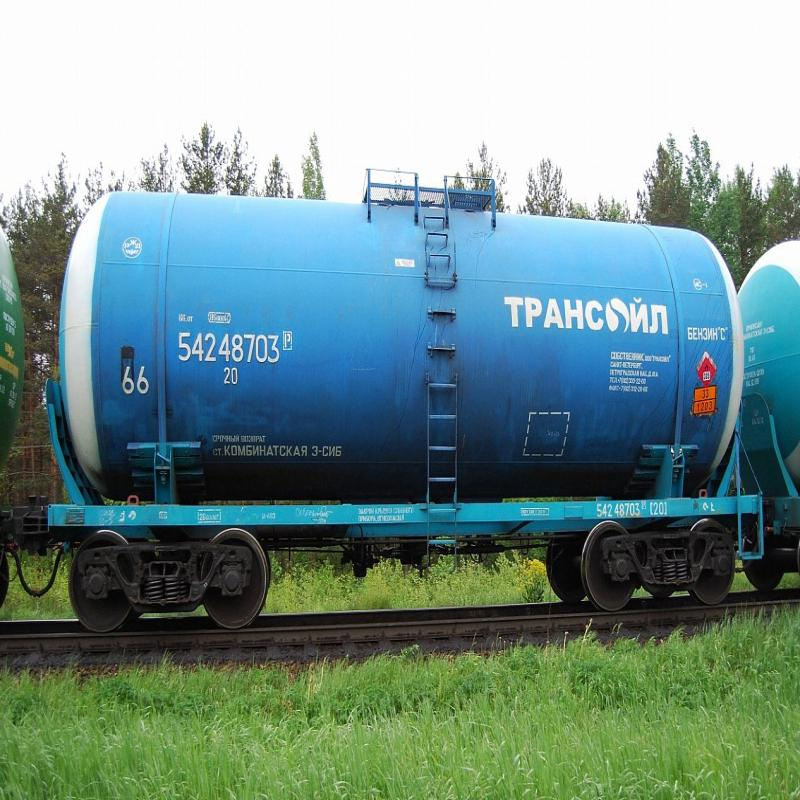train: (26, 177, 774, 658)
